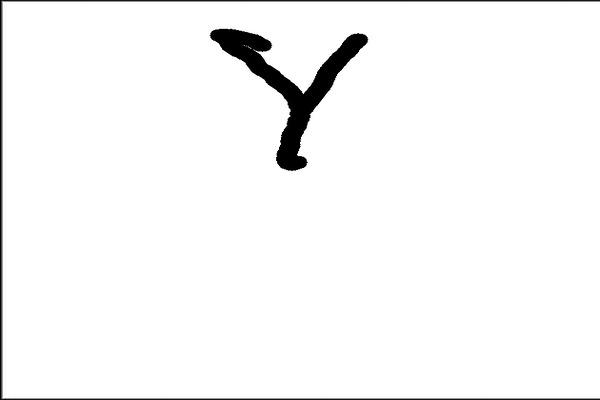Y: (207, 17, 379, 183)
